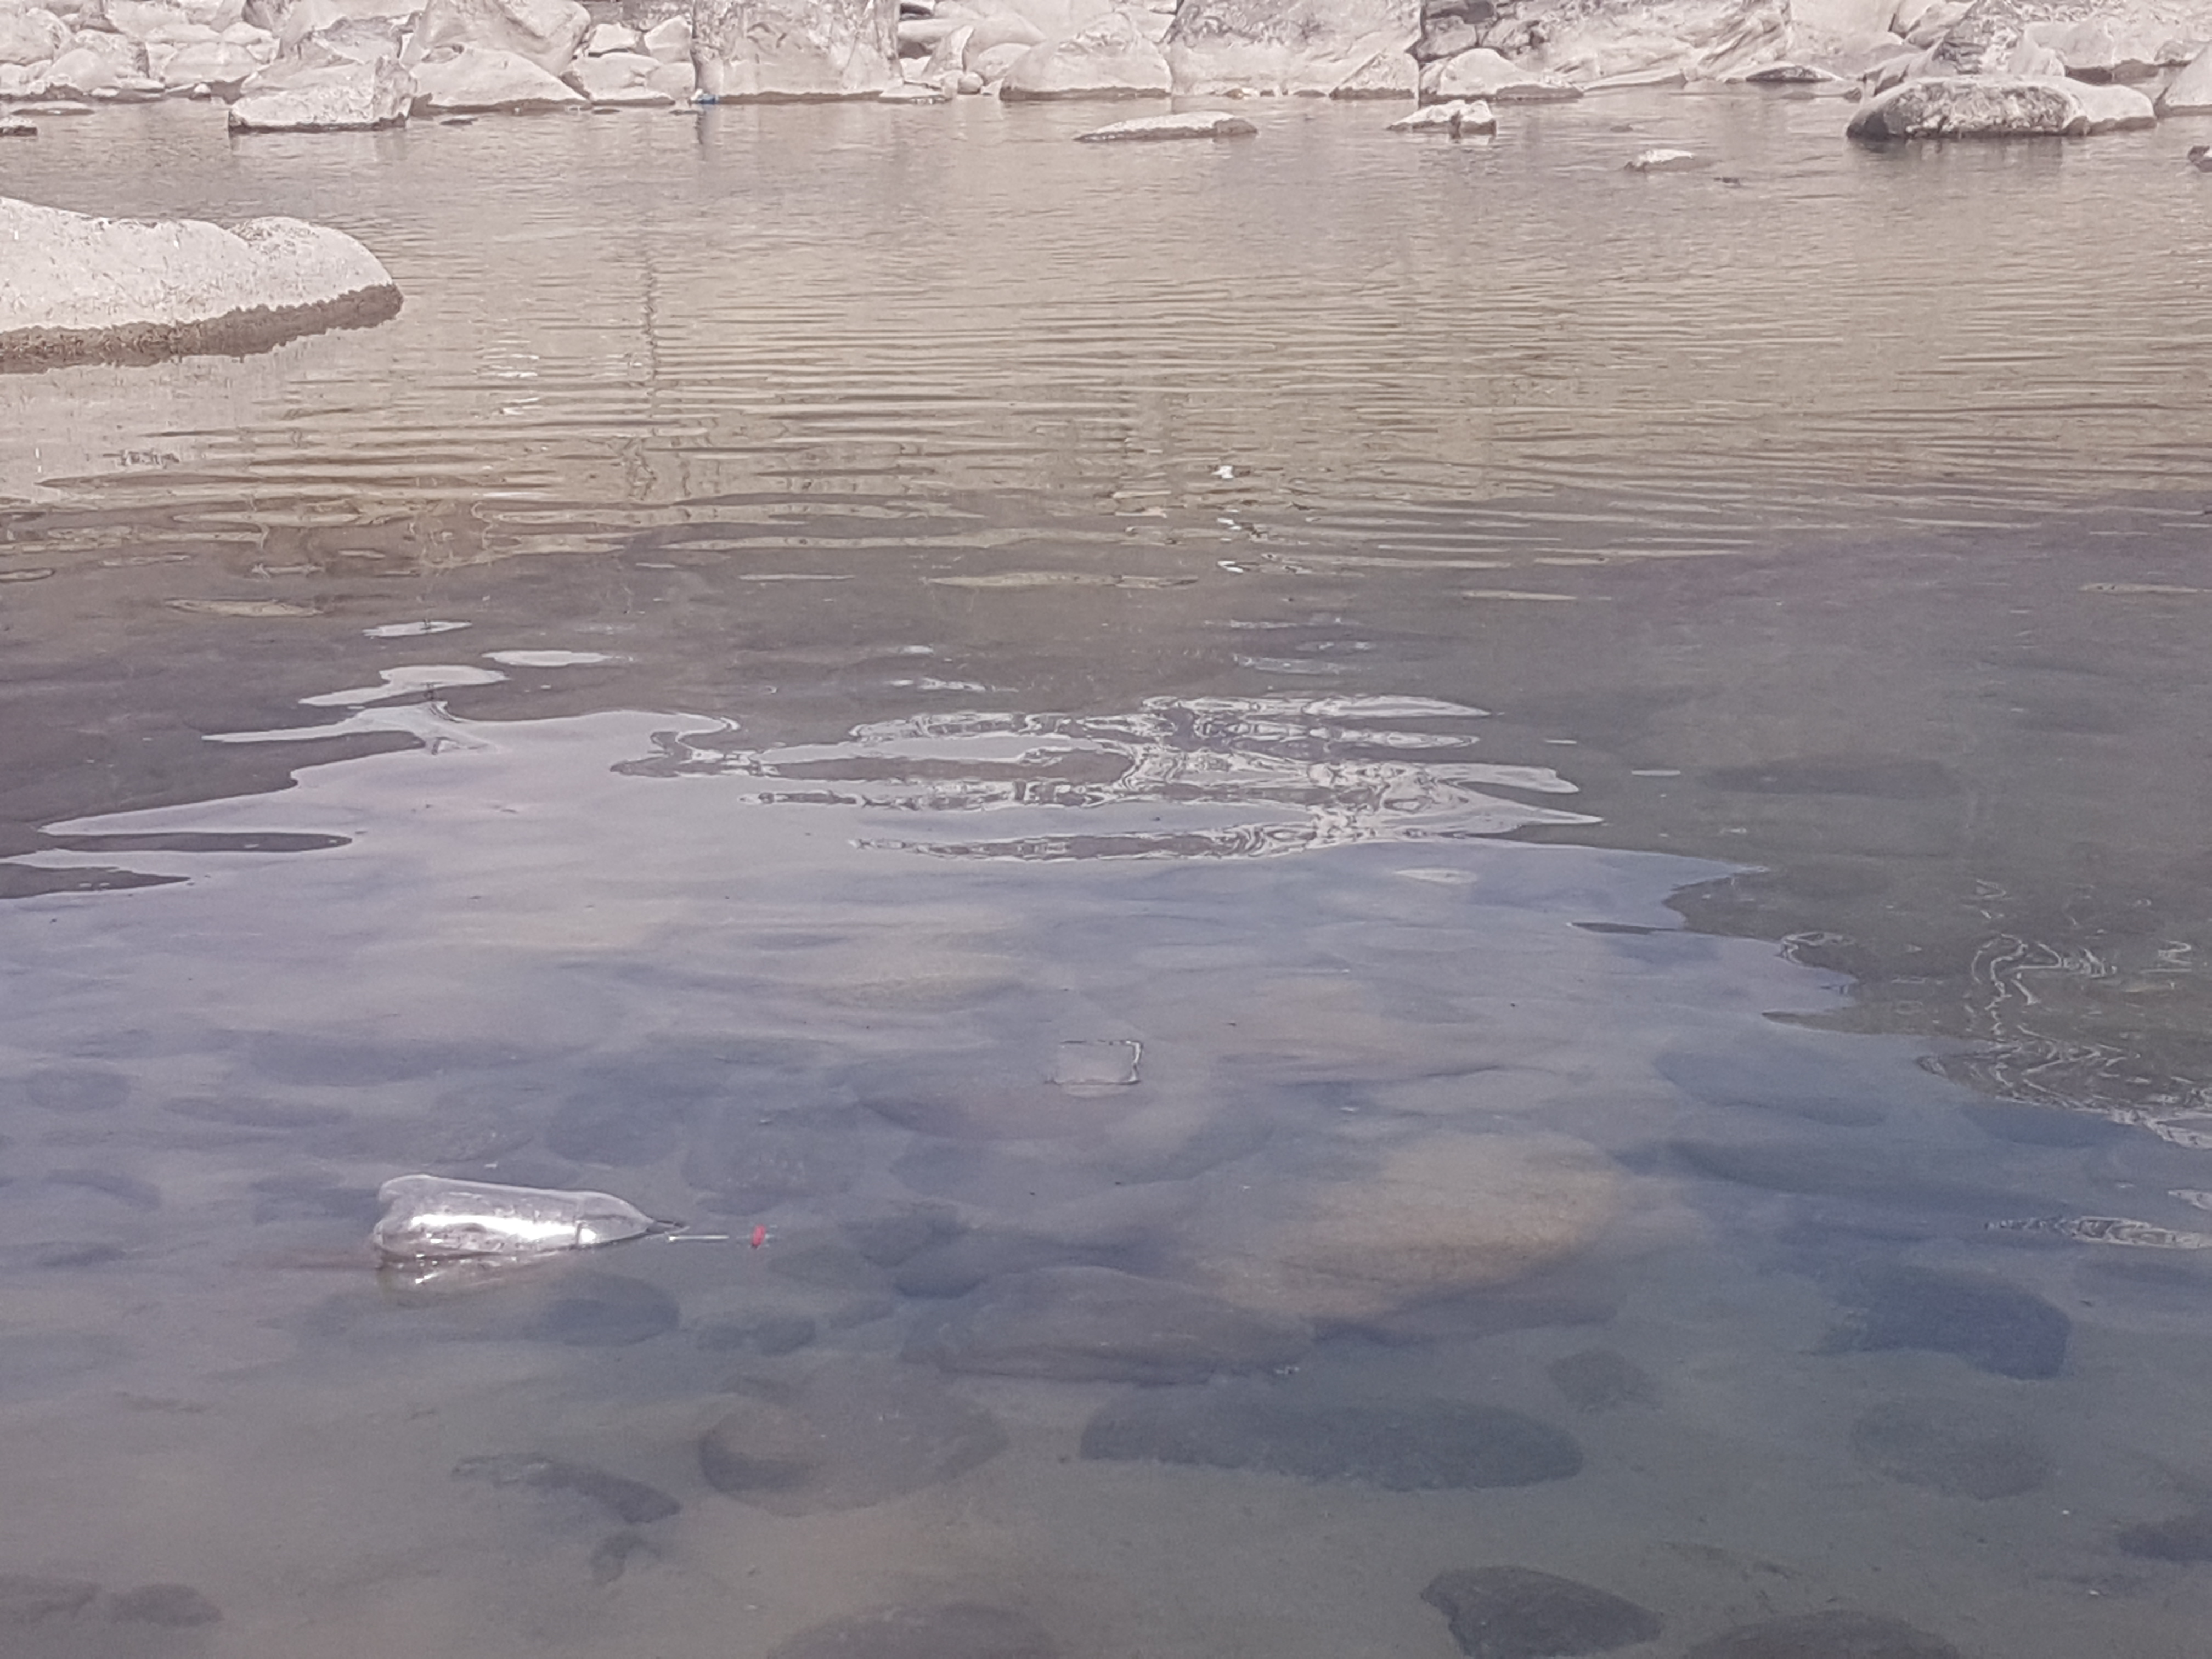Plastic Bottle: (369, 1169, 686, 1260), (688, 87, 702, 105), (697, 94, 718, 105)
